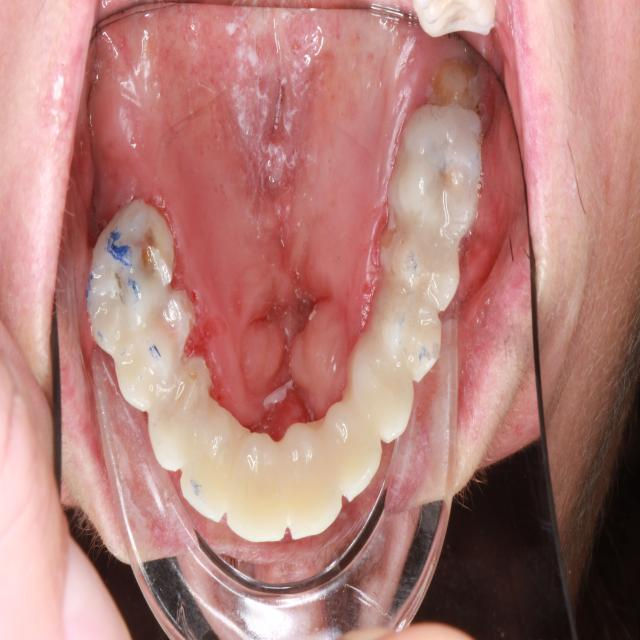tooth: (86, 191, 186, 367), (380, 89, 485, 252), (105, 280, 209, 421), (337, 320, 422, 456), (221, 416, 300, 562), (366, 273, 451, 396), (141, 353, 218, 482), (377, 210, 467, 313), (278, 418, 349, 544), (316, 398, 393, 511), (177, 396, 239, 536), (428, 52, 485, 113)
